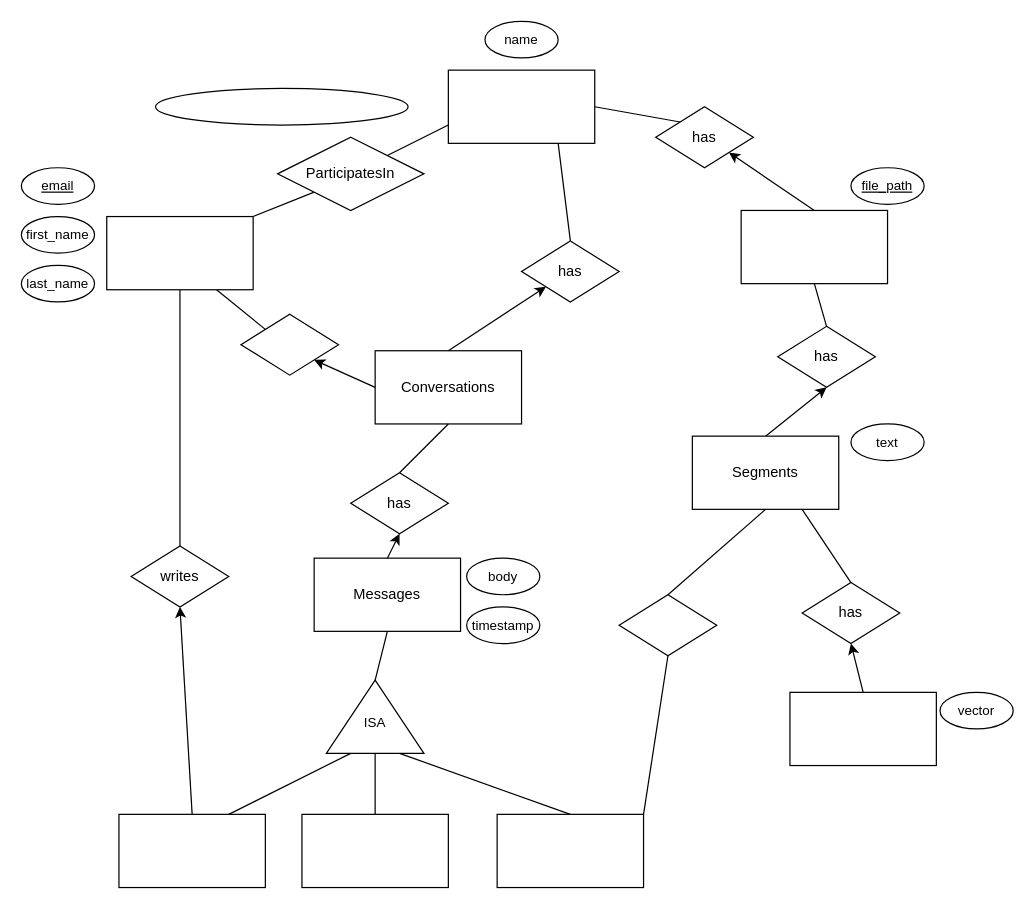
Some shapes in this 1035 by 909 pixel diagram are drawn without their labels. Each missing label, with the centre of its shape:
"AssistantMessages" goes at pixel 191 850.
"BotMessage" goes at pixel 570 850.
"Courses" goes at pixel 521 106.
"Documents" goes at pixel 814 246.
"Embeddings" goes at pixel 862 728.
"initiates" goes at pixel 289 344.
"References" goes at pixel 667 625.
"role: Student, Assistant, Instructor" goes at pixel 281 106.
"StudentMessages" goes at pixel 374 850.
"Users" goes at pixel 179 252.
